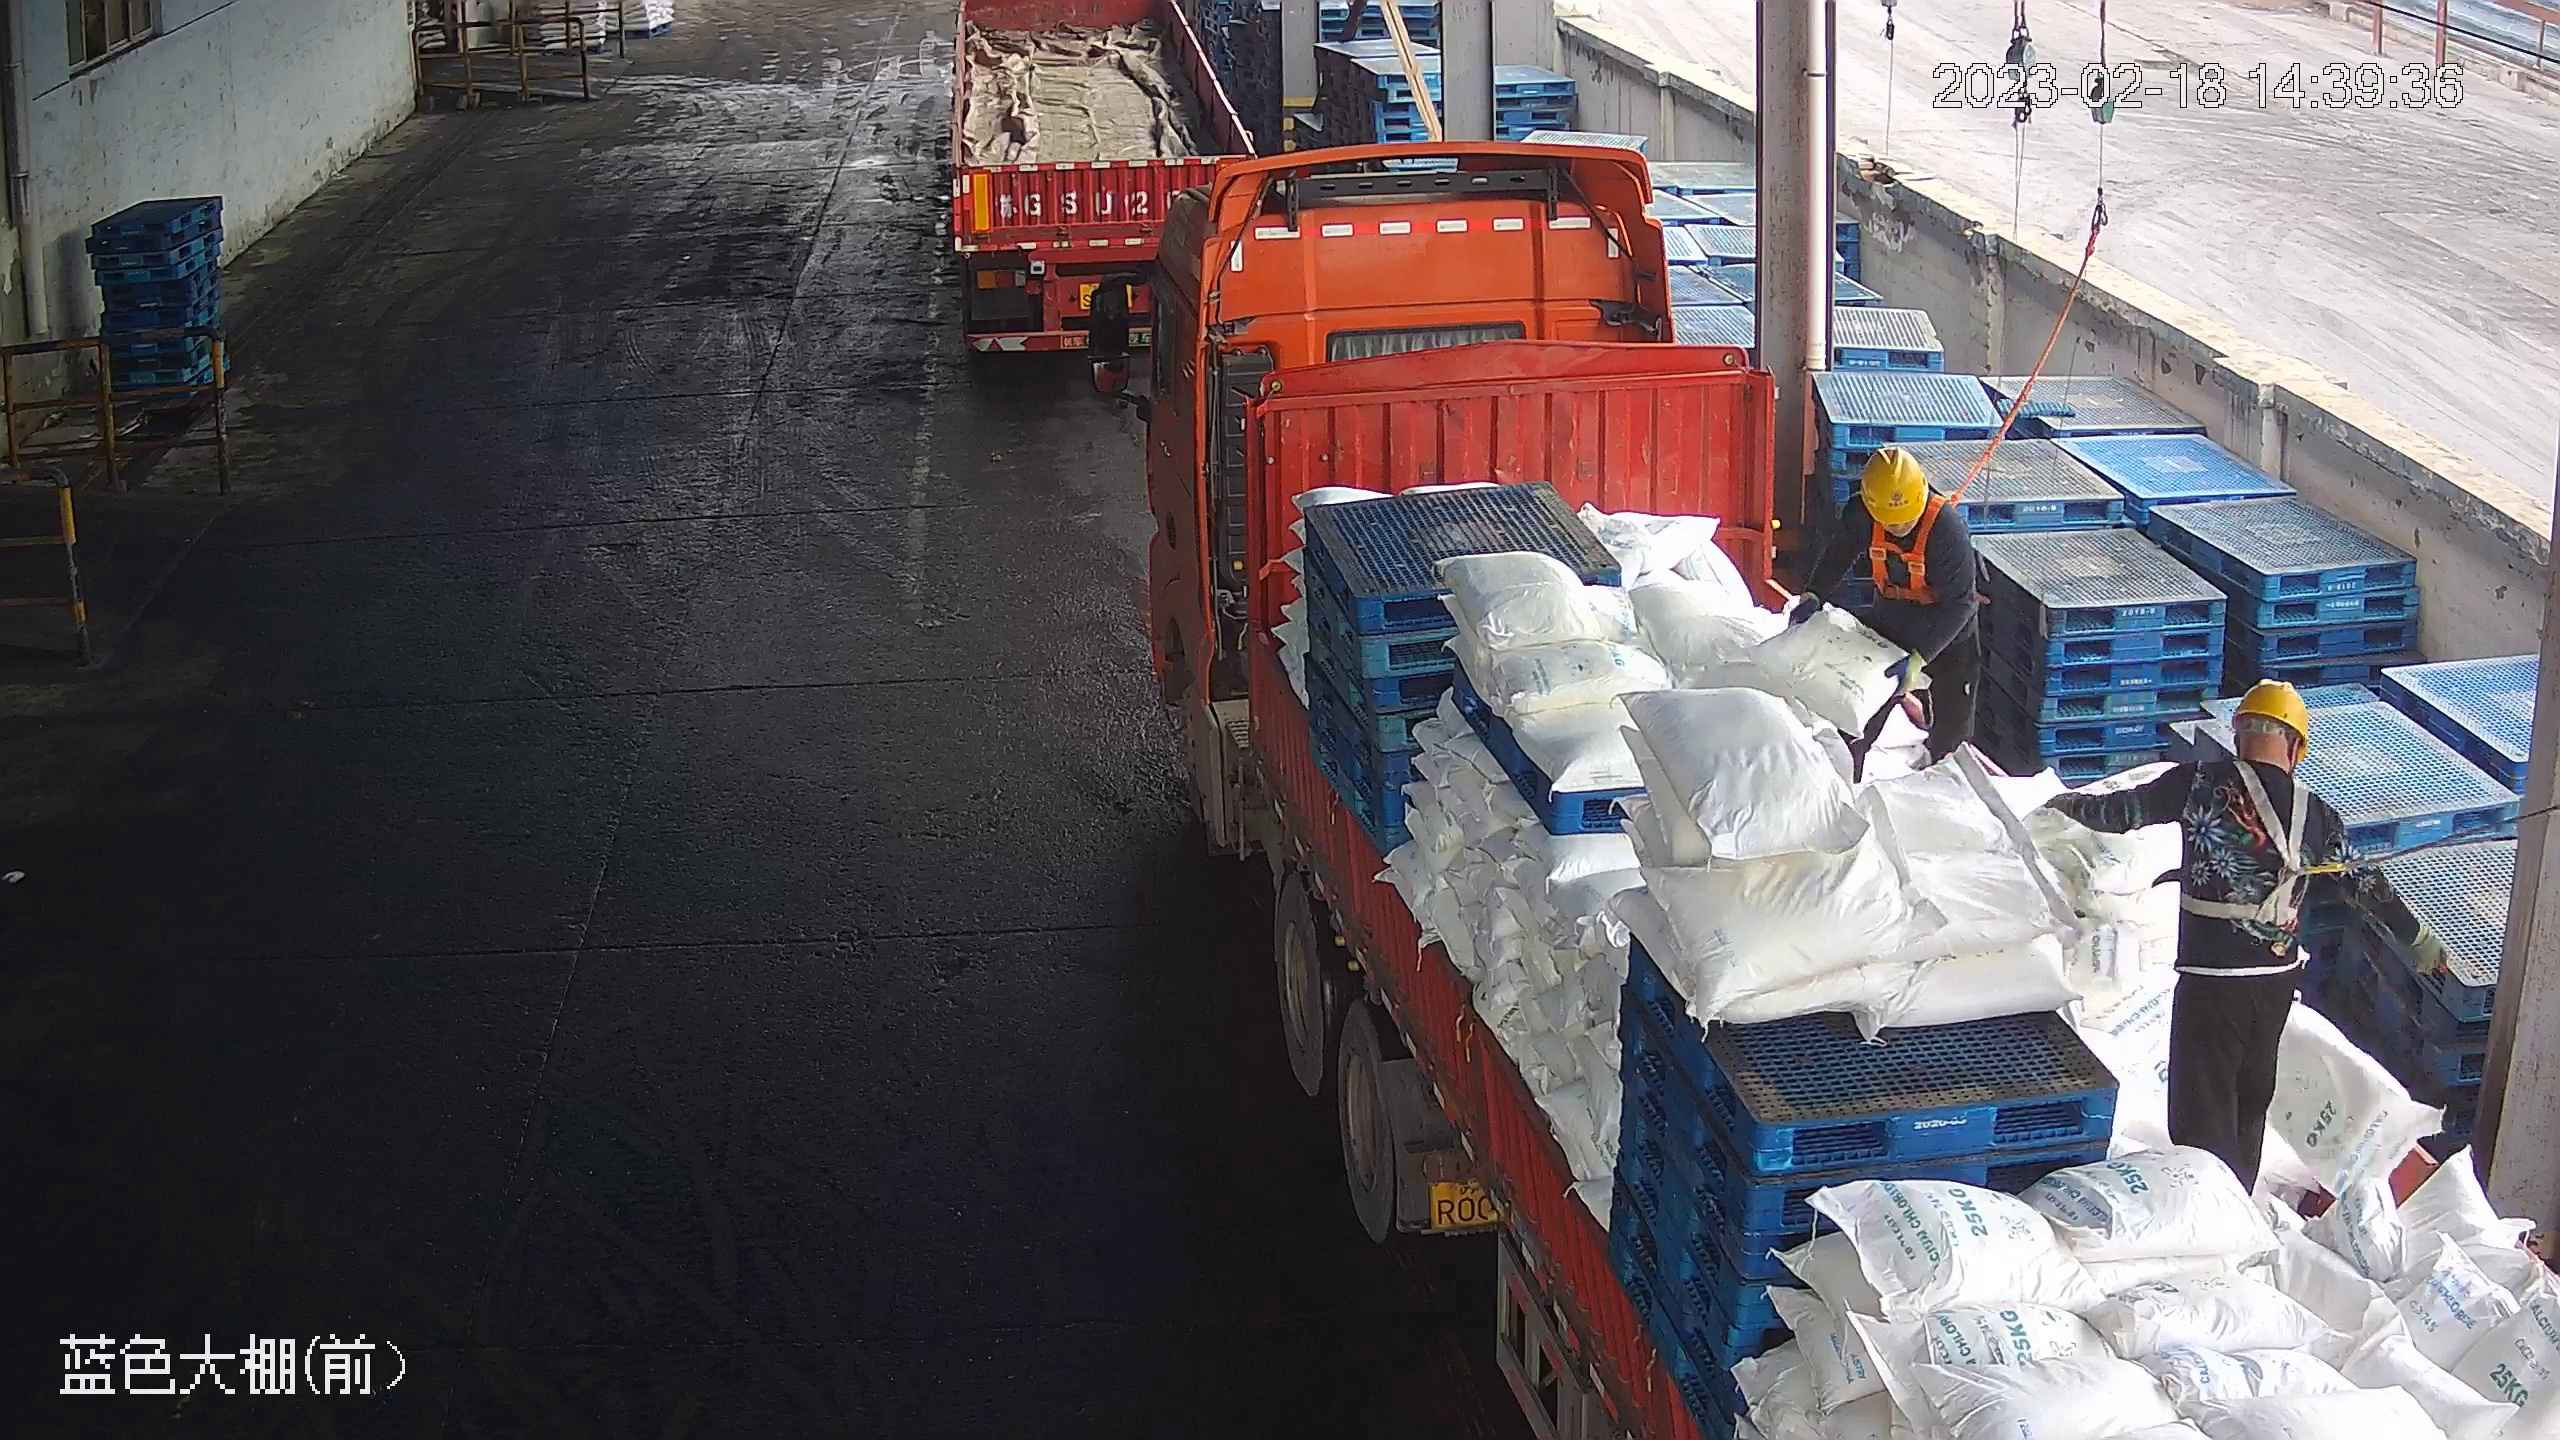belt: (2200, 767, 2326, 932), (1860, 513, 1956, 605)
head: (2169, 674, 2346, 850), (1833, 445, 1972, 572)
helmet: (2228, 675, 2311, 753), (1857, 445, 1933, 529)
people: (2040, 671, 2357, 1209), (1780, 445, 1984, 785)
truck: (1073, 153, 2549, 1437), (939, 4, 1255, 378)
